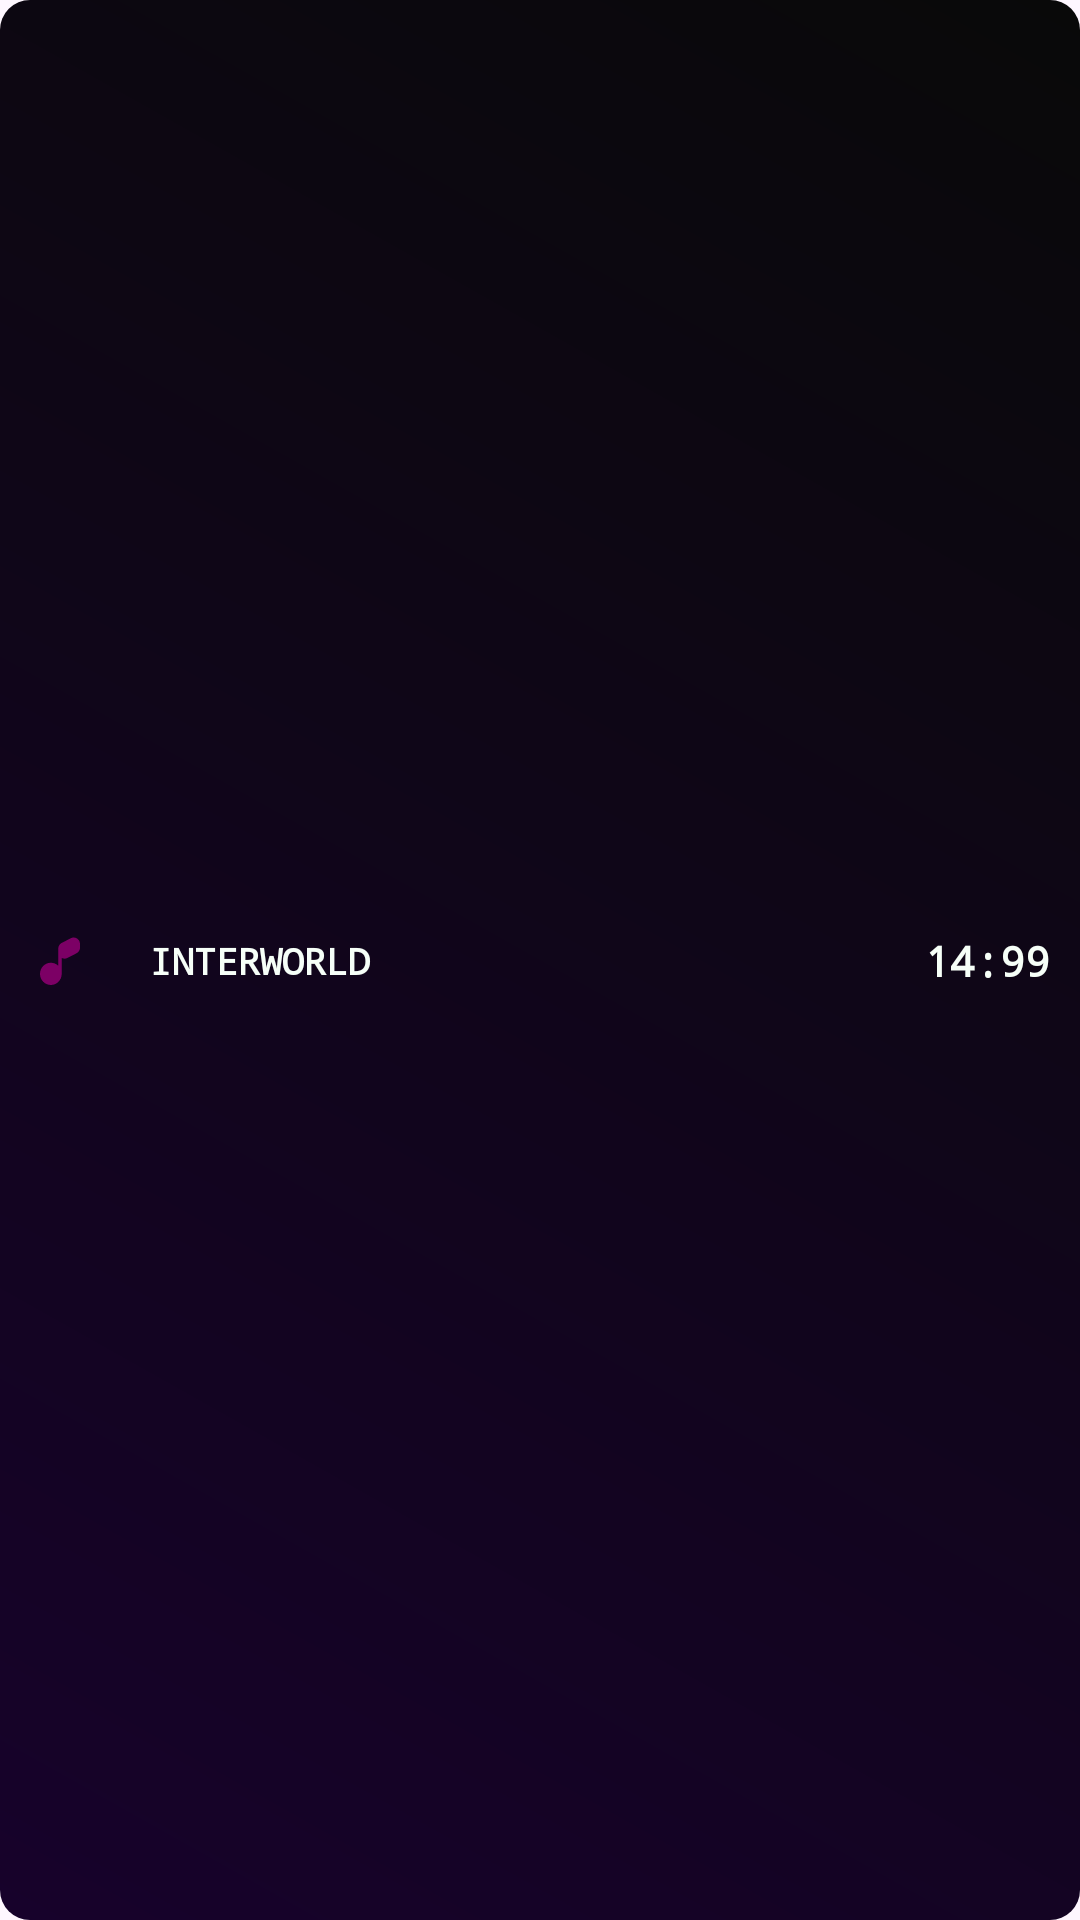

Named icons in this screenshot (1080*1920) and their centers, (x=x, y=y):
music note: (x=60, y=961)
